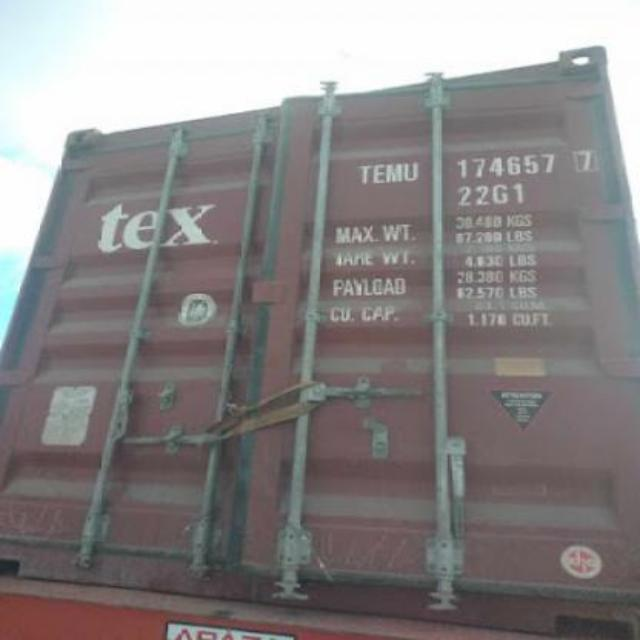1: (456, 156, 469, 180)
4: (488, 156, 506, 178)
5: (522, 152, 540, 175)
6: (508, 154, 522, 176)
7: (572, 148, 592, 172), (540, 151, 556, 177), (470, 154, 486, 178)
E: (372, 162, 386, 184)
M: (386, 164, 404, 182)
T: (354, 163, 374, 187)
U: (404, 160, 420, 182)
